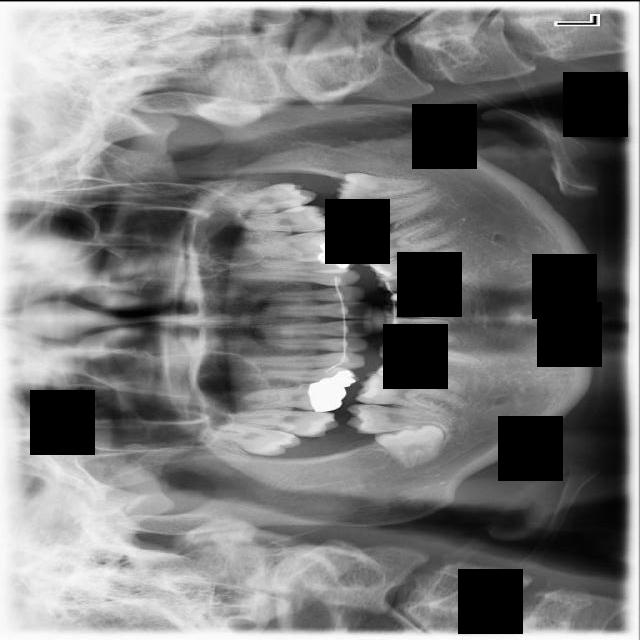3M ESPE Implant: (203, 418, 302, 461)
52: (354, 364, 406, 413), (292, 379, 347, 413), (298, 225, 344, 263), (305, 250, 357, 275), (368, 253, 408, 284), (314, 364, 359, 388), (375, 352, 412, 380)
73: (574, 68, 584, 72)
BioHorizons Implant: (233, 203, 332, 236)
BioLife Implant: (219, 179, 317, 214)
Biomet 3i Implant: (335, 171, 428, 202)
Blue Sky Bio Implant: (336, 191, 441, 237)
Caries: (228, 406, 339, 438)
Implant: (347, 403, 459, 440)
Keystone Dental Implant: (374, 415, 452, 475)
